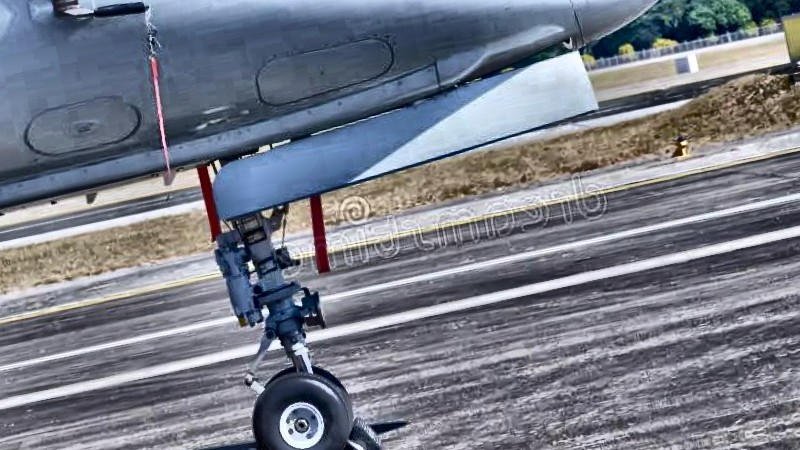chock: (338, 411, 389, 450)
wheel: (241, 354, 367, 450), (259, 356, 348, 413)
